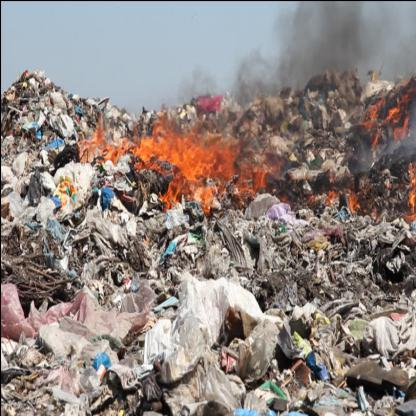Fire: (132, 126, 247, 202), (363, 98, 408, 148), (78, 124, 118, 164), (245, 160, 269, 198), (342, 183, 366, 217), (405, 154, 415, 223), (60, 169, 70, 219), (318, 186, 336, 209)
Smoke: (232, 1, 382, 106)
